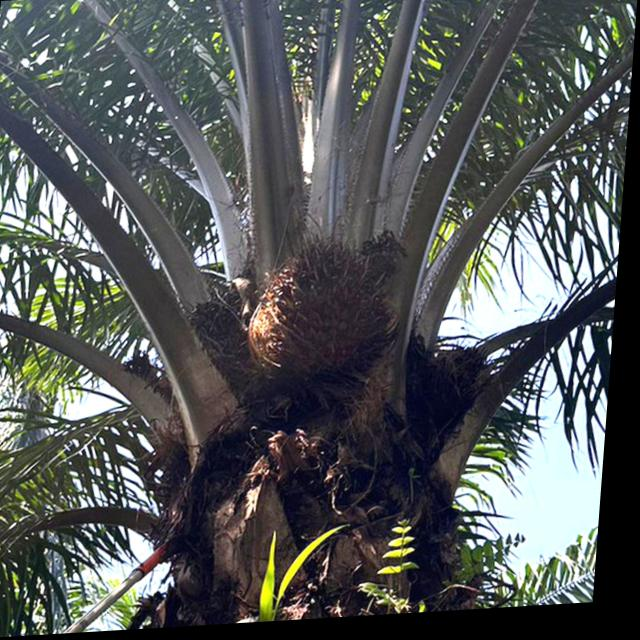ripe: (235, 217, 418, 395)
